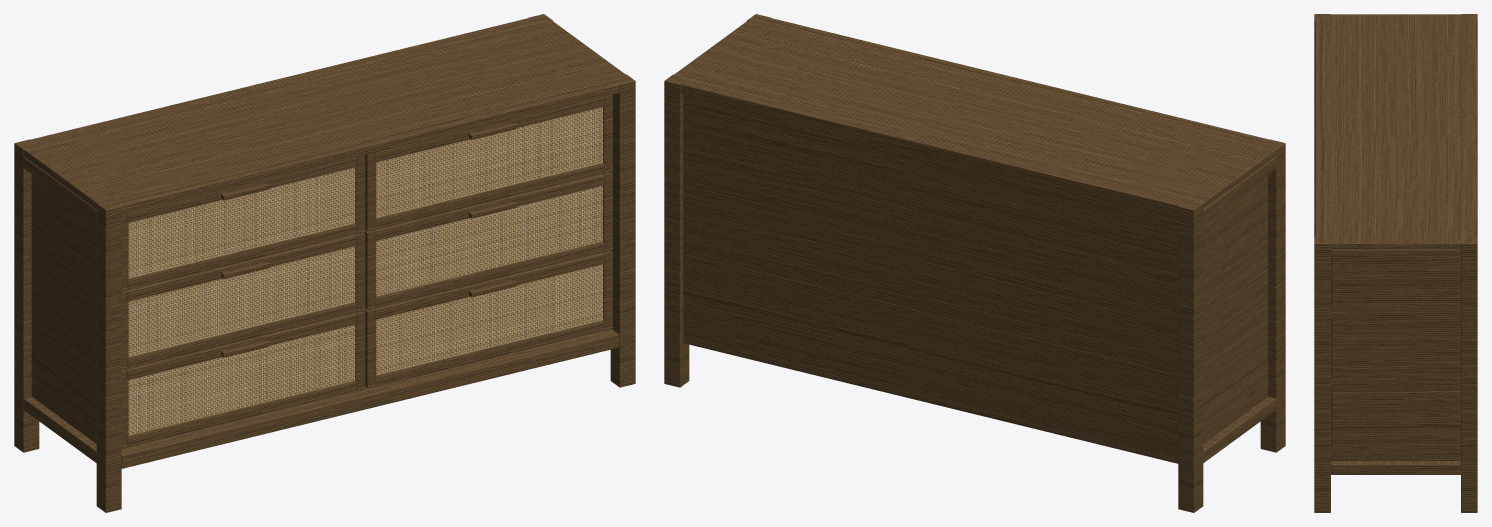
3 views of the same model, side by side, from view 1: azimuth 30°, elevation 25°; view 2: azimuth 150°, elevation 25°; view 3: azimuth 270°, elevation 25° (orthographic). The views are drawn at different scales.
Visible parts, largest first — view 1: NEW HOI AN LV453.B61 | queen-8 web batch, Dresser drawer 2 sliding pivot web batch, Dresser drawer 4 sliding pivot web batch, Dresser drawer 3 sliding pivot web batch, Dresser drawer 1 sliding pivot web batch, Dresser drawer 6 sliding pivot web batch, Dresser drawer 5 sliding pivot web batch; view 2: NEW HOI AN LV453.B61 | queen-8 web batch; view 3: NEW HOI AN LV453.B61 | queen-8 web batch.
Part boxes in pixels (<box>): NEW HOI AN LV453.B61 | queen-8 web batch: <box>14,14,635,512</box>; Dresser drawer 2 sliding pivot web batch: <box>365,250,612,388</box>; Dresser drawer 4 sliding pivot web batch: <box>365,172,612,309</box>; Dresser drawer 3 sliding pivot web batch: <box>121,232,365,369</box>; Dresser drawer 1 sliding pivot web batch: <box>121,311,365,448</box>; Dresser drawer 6 sliding pivot web batch: <box>365,94,612,230</box>; Dresser drawer 5 sliding pivot web batch: <box>121,155,365,290</box>; NEW HOI AN LV453.B61 | queen-8 web batch: <box>664,14,1285,512</box>; NEW HOI AN LV453.B61 | queen-8 web batch: <box>1314,14,1477,512</box>.
Bounding box in the file's own units: 1.5 × 0.82 × 0.45.
Materials: 5 (2 with a texture image).
